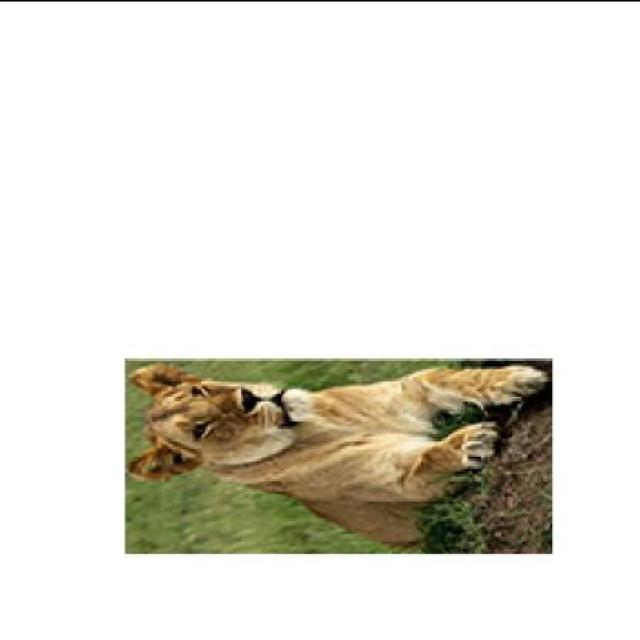Lion: (105, 342, 572, 562)
